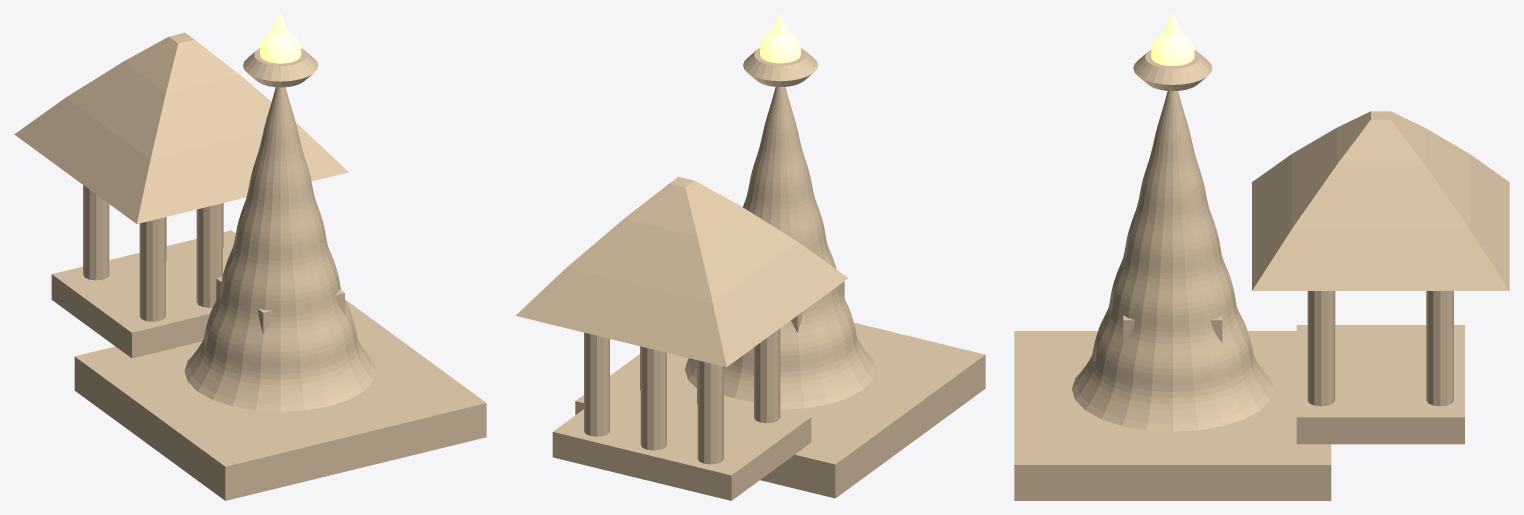
Rendered from nagara.glb.
3 renders of one model, left to right at view 1: azimuth 30°, elevation 25°; view 2: azimuth 150°, elevation 25°; view 3: azimuth 270°, elevation 25°, orthographic. The views are drawn at different scales.
Visible parts, largest first — view 1: nagara; view 2: nagara; view 3: nagara.
Boxes of the visible parts, box(x1,y1,x2,y2) form: nagara: box(14, 14, 486, 500); nagara: box(515, 14, 985, 500); nagara: box(1014, 14, 1509, 500).
Size of the model in its own units: 6.84 by 10 by 10.7.
